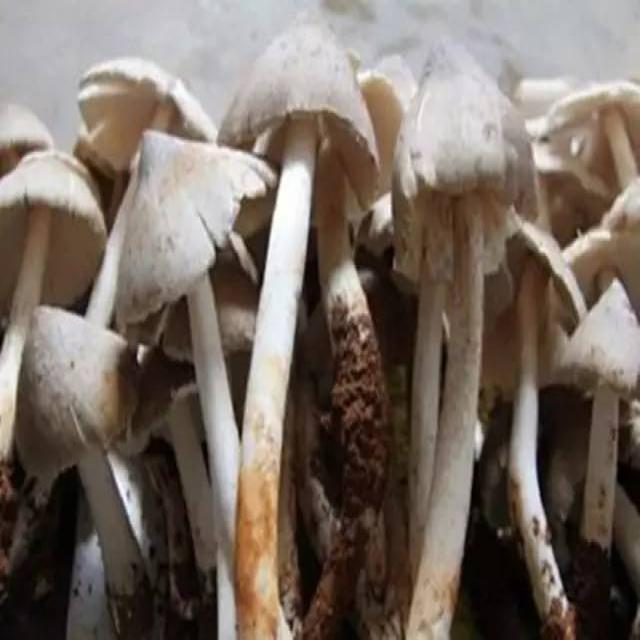Collybia albuminosa: (219, 28, 377, 640), (394, 40, 531, 640), (119, 130, 275, 640), (489, 218, 581, 632), (77, 56, 219, 322), (19, 303, 142, 607), (0, 152, 106, 463), (563, 275, 640, 541), (551, 83, 640, 191)
